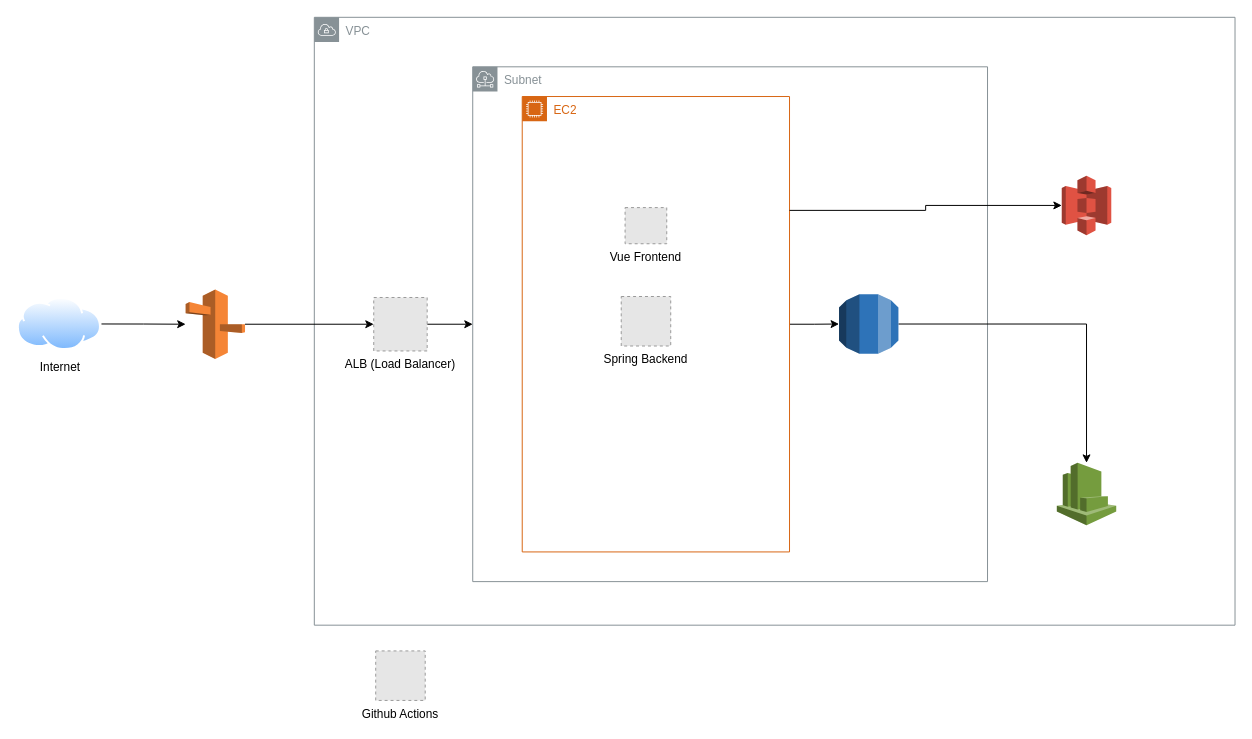
This 1252x739 diagram has some shape labels left out. Grey dashed boxes stand in for pictures. The shapes that lost their labels are listed below. From the top down, each one's centre as x and y in pixels, then its label:
At (1086,205): "S3 (Object Storage)".
At (215,324): "Route 53 (DNS)".
At (868,323): "RDS PostgreSQL".
At (1086,493): "Cloudwatch (Logs)".
